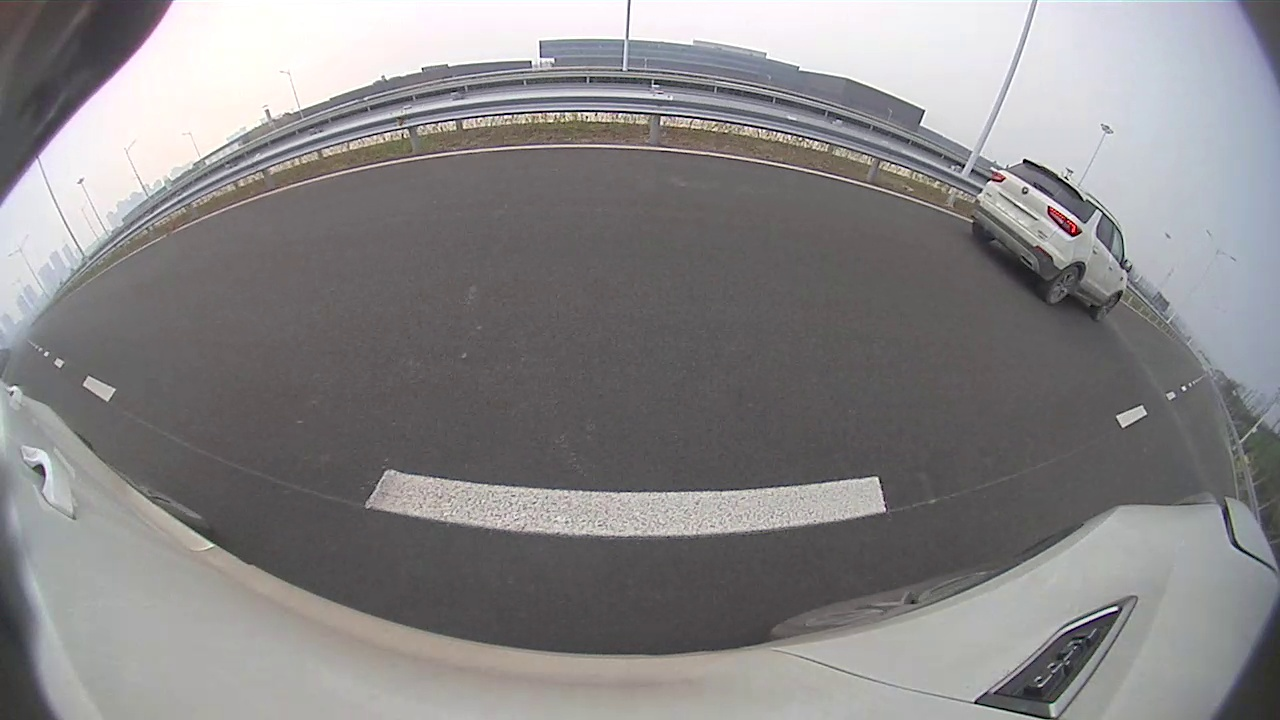car: (968, 160, 1131, 321)
front: (1093, 291, 1128, 327)
rear: (1044, 263, 1080, 307)
